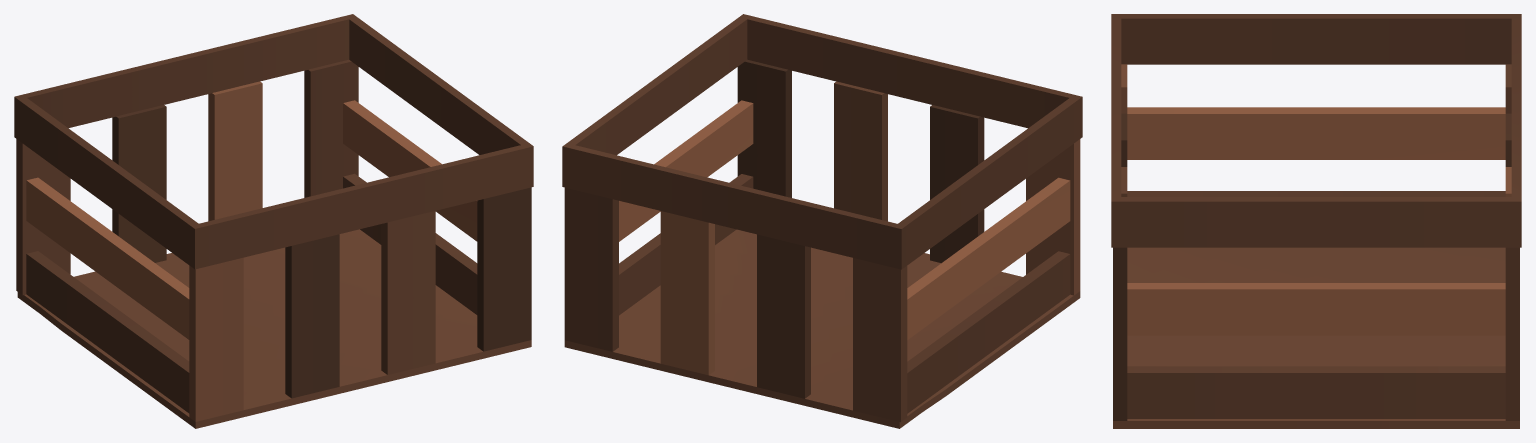
The model's file is Med Cherry Crate No Lid.fbx.
The picture shows the model from 3 angles, left to right: view 1: azimuth 30°, elevation 25°; view 2: azimuth 150°, elevation 25°; view 3: azimuth 270°, elevation 25°; orthographic projection. The views are drawn at different scales.
Parts seen in each view (by area): view 1: Med Cherry Crate No Lid; view 2: Med Cherry Crate No Lid; view 3: Med Cherry Crate No Lid.
Boxes of the visible parts, left/top/right/bottom form: Med Cherry Crate No Lid: left=14, top=14, right=533, bottom=428; Med Cherry Crate No Lid: left=562, top=14, right=1082, bottom=428; Med Cherry Crate No Lid: left=1111, top=14, right=1521, bottom=428.
Bounding box in the file's own units: 118 × 192 × 208.
1 material, 1 textured.
